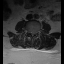CCS_normal: (31, 30, 33, 39)
LFS_normal: (35, 30, 37, 35)
LLS_normal: (33, 30, 35, 36)
RFS_stenosis: (28, 29, 30, 35)
RLS_normal: (30, 30, 31, 35)
